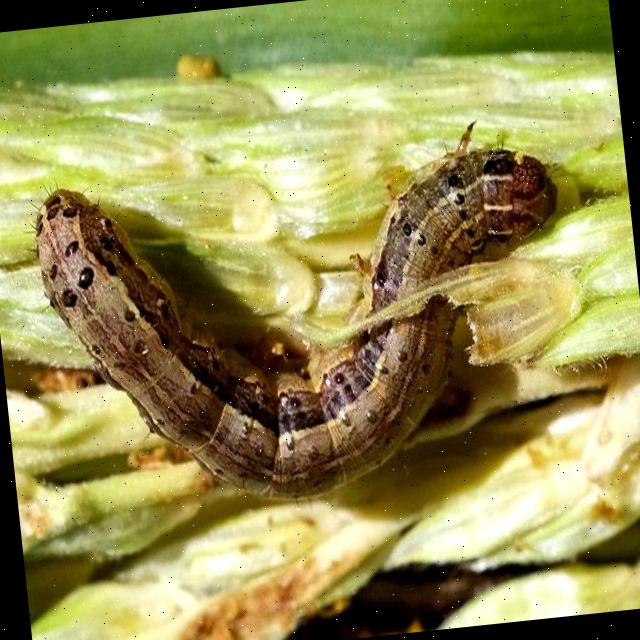worm: (22, 113, 589, 528)
